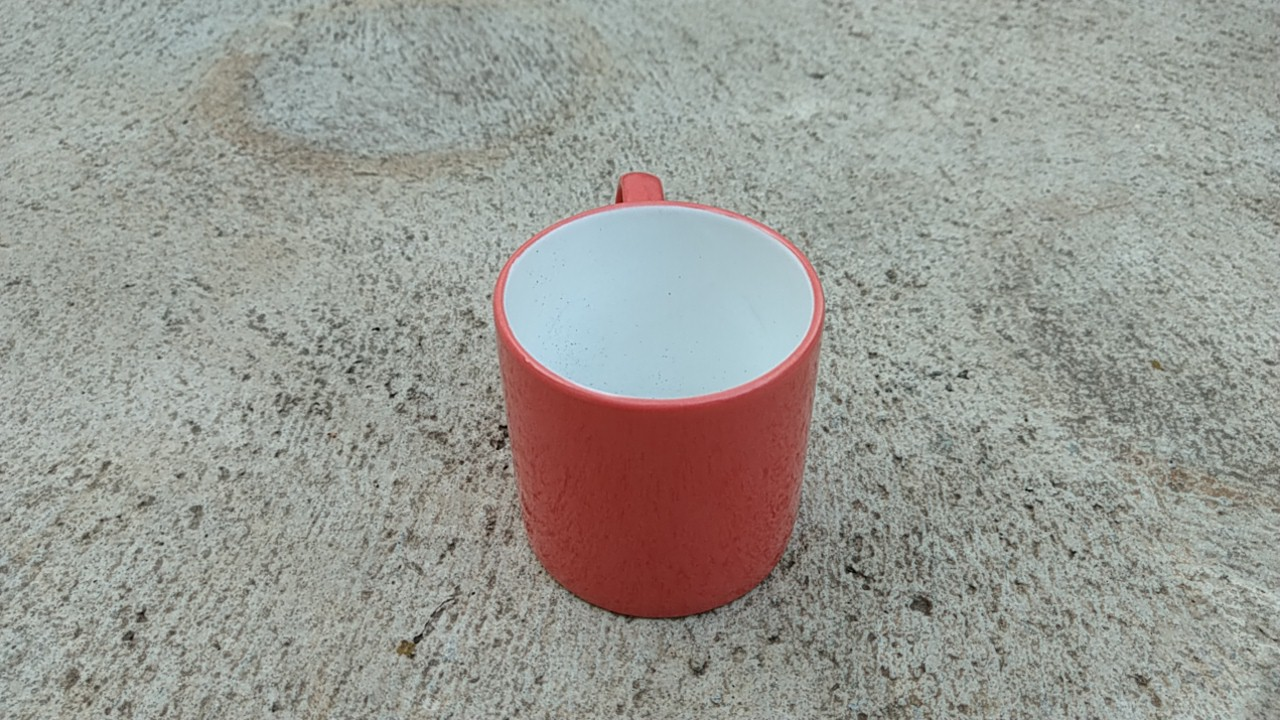cup: (479, 168, 835, 631)
